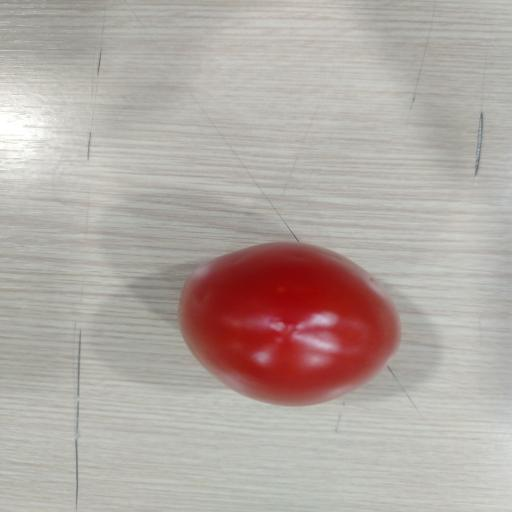ripe: (179, 242, 400, 405)
